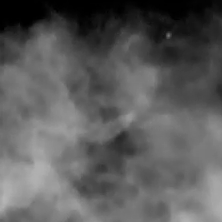Target: (166, 33, 170, 39)
